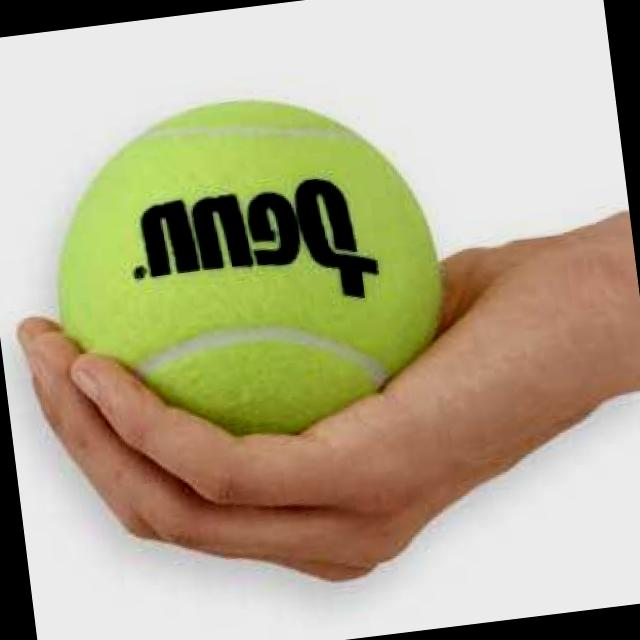Tennis Ball: (55, 98, 445, 438)
